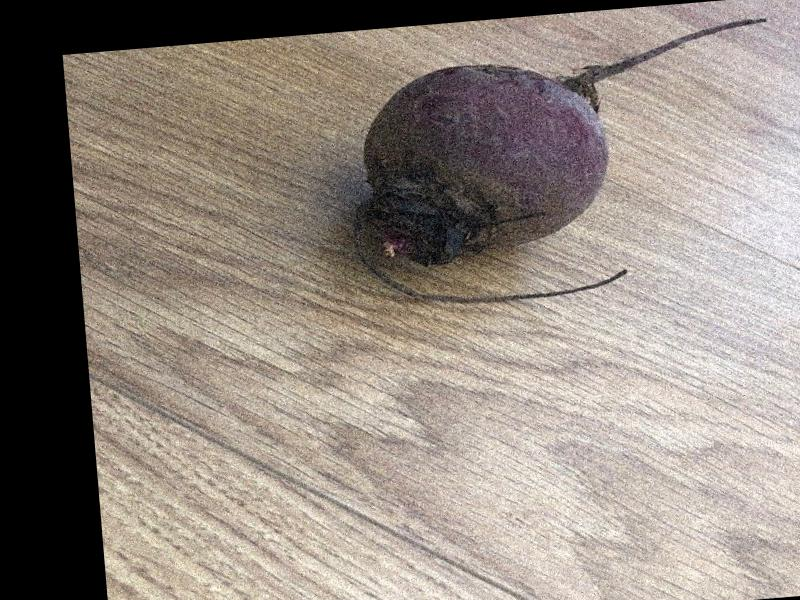Beet: (342, 17, 788, 312)
